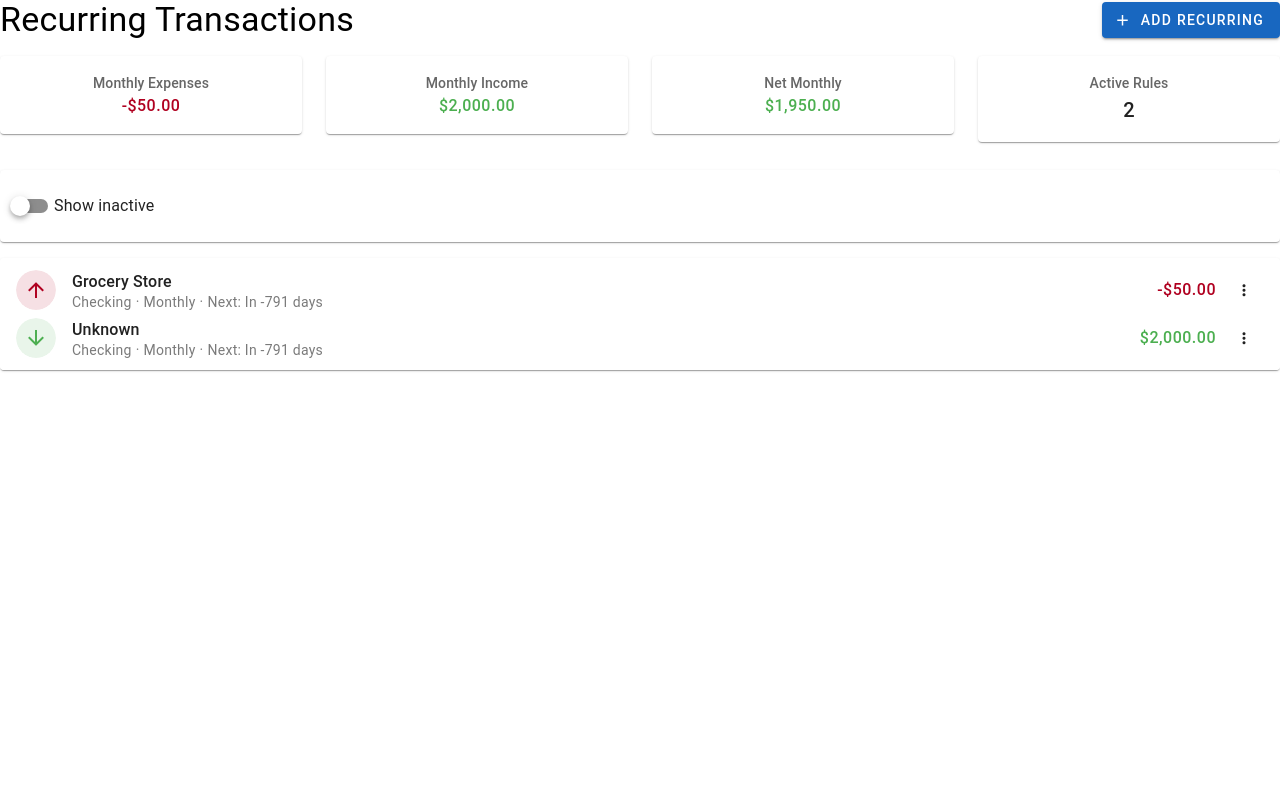
Scenario: RecurringView › add recurring button opens form dialog
Click the button "Add Recurring" at (1191, 20), box [1102,2,1279,38]
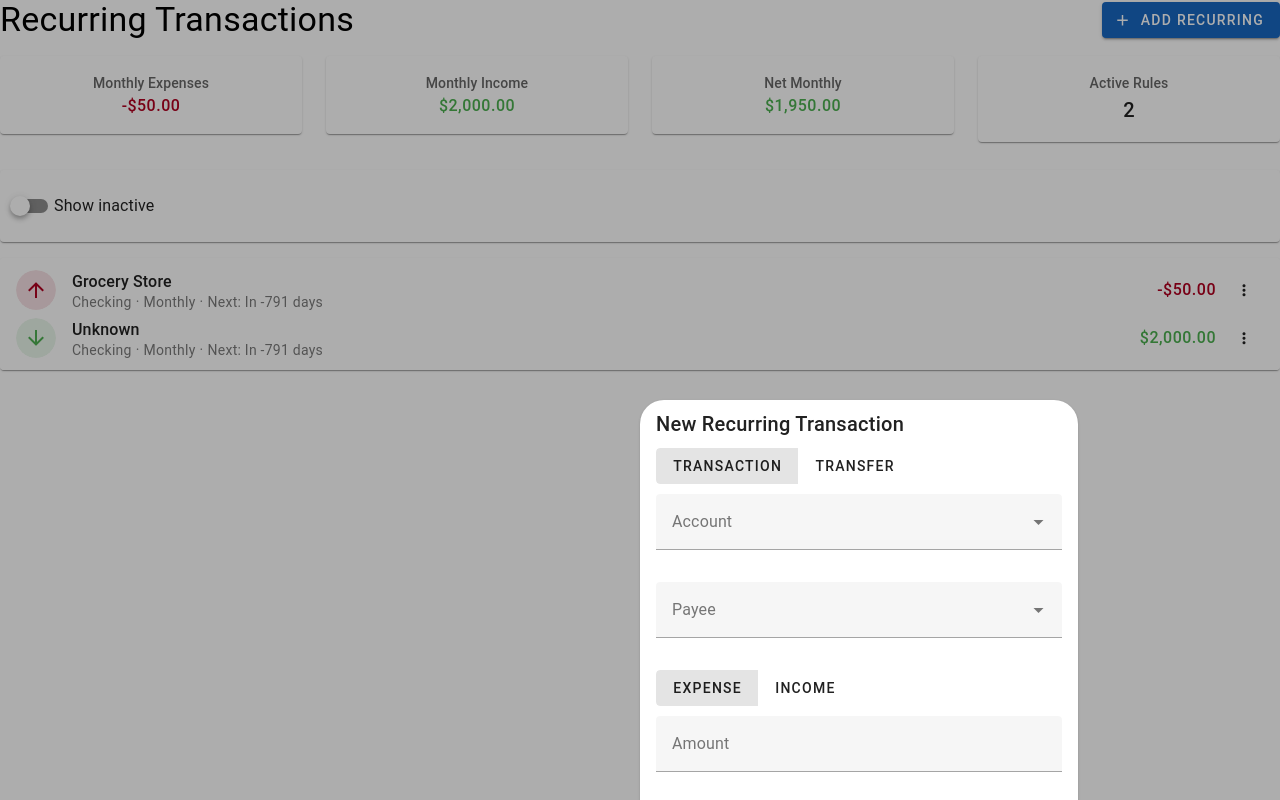
Expected: the text "New Recurring Transaction" is shown, [656,412,904,436]
